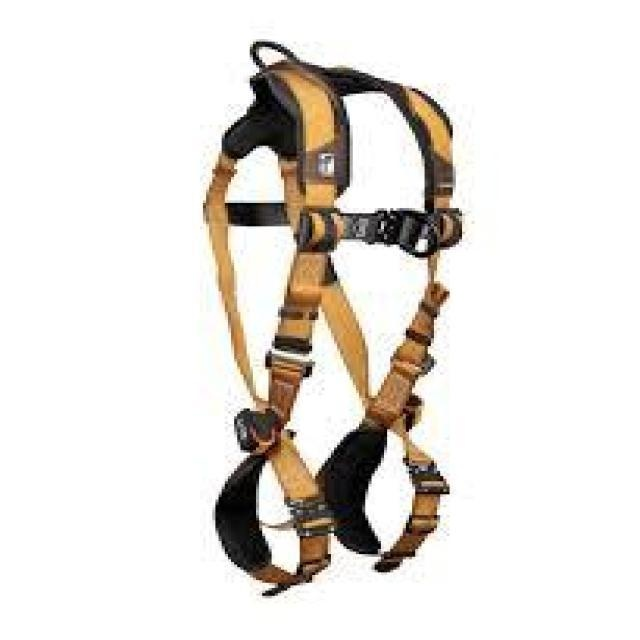Arnes_seguridad: (198, 34, 465, 600)
